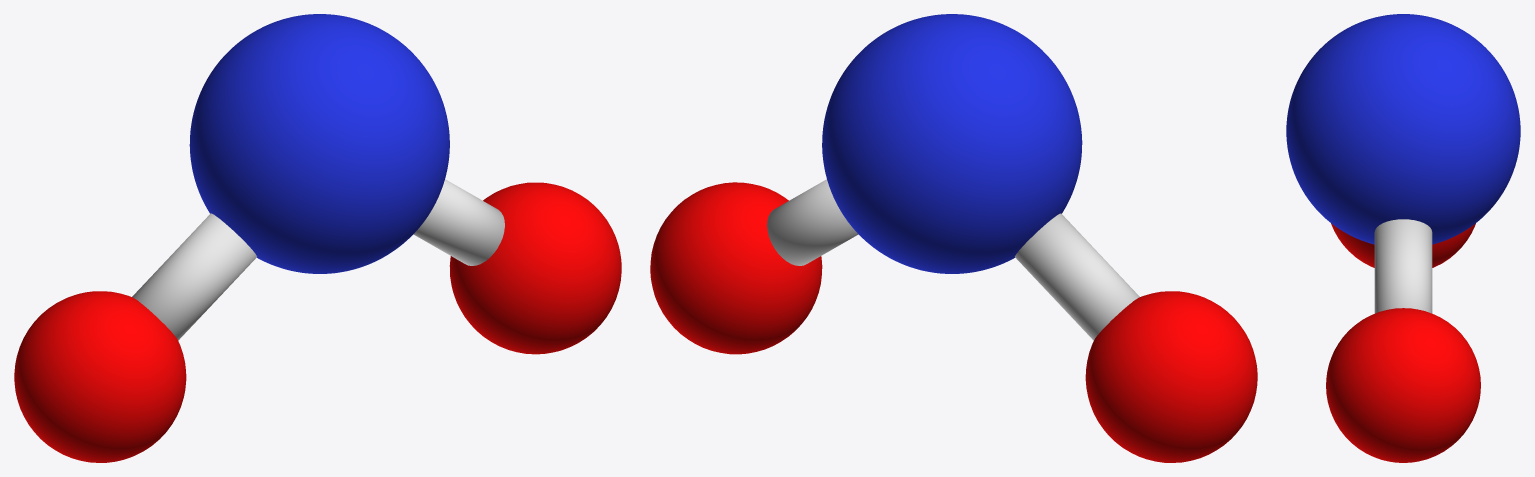
3 renders of one model, left to right at view 1: azimuth 30°, elevation 25°; view 2: azimuth 150°, elevation 25°; view 3: azimuth 270°, elevation 25°, orthographic. The views are drawn at different scales.
Parts seen in each view (by area): view 1: Object_2, Object_4, Object_3; view 2: Object_2, Object_4, Object_3; view 3: Object_2, Object_4, Object_3.
Boxes of the visible parts, x1=… form: Object_2: x1=189, y1=14, x2=449, y2=273; Object_4: x1=14, y1=182, x2=621, y2=462; Object_3: x1=132, y1=179, x2=504, y2=340; Object_2: x1=822, y1=14, x2=1082, y2=273; Object_4: x1=650, y1=182, x2=1257, y2=462; Object_3: x1=767, y1=179, x2=1139, y2=340; Object_2: x1=1286, y1=14, x2=1520, y2=244; Object_4: x1=1326, y1=223, x2=1480, y2=462; Object_3: x1=1374, y1=219, x2=1432, y2=313.
Size of the model in its own units: 536 by 329 by 207.
